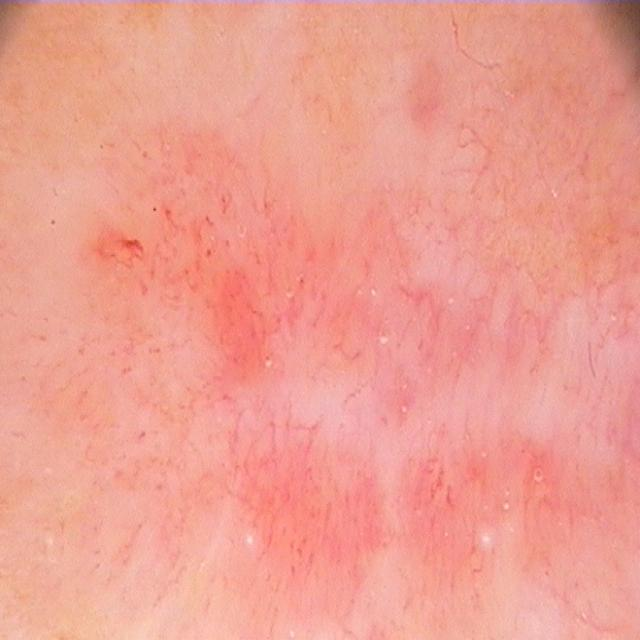Melanoma: (99, 122, 585, 593)
